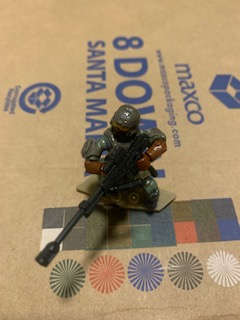soldier: (33, 102, 169, 271)
